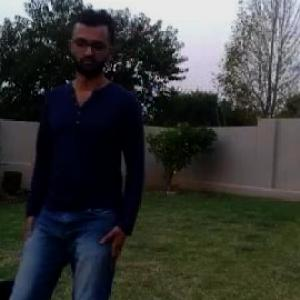follow: (34, 9, 140, 299)
